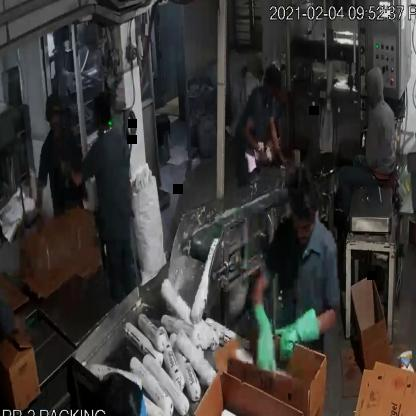glove: (247, 284, 279, 386), (277, 297, 323, 367)
no_glove: (25, 164, 51, 239), (267, 107, 289, 179), (245, 100, 262, 163), (62, 150, 85, 193)
